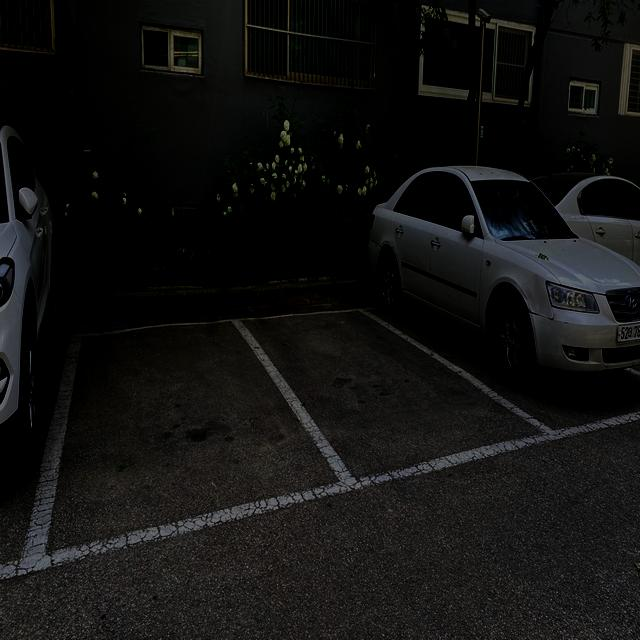empty: (16, 316, 366, 580), (229, 304, 569, 497)
occupied: (366, 164, 640, 378)
